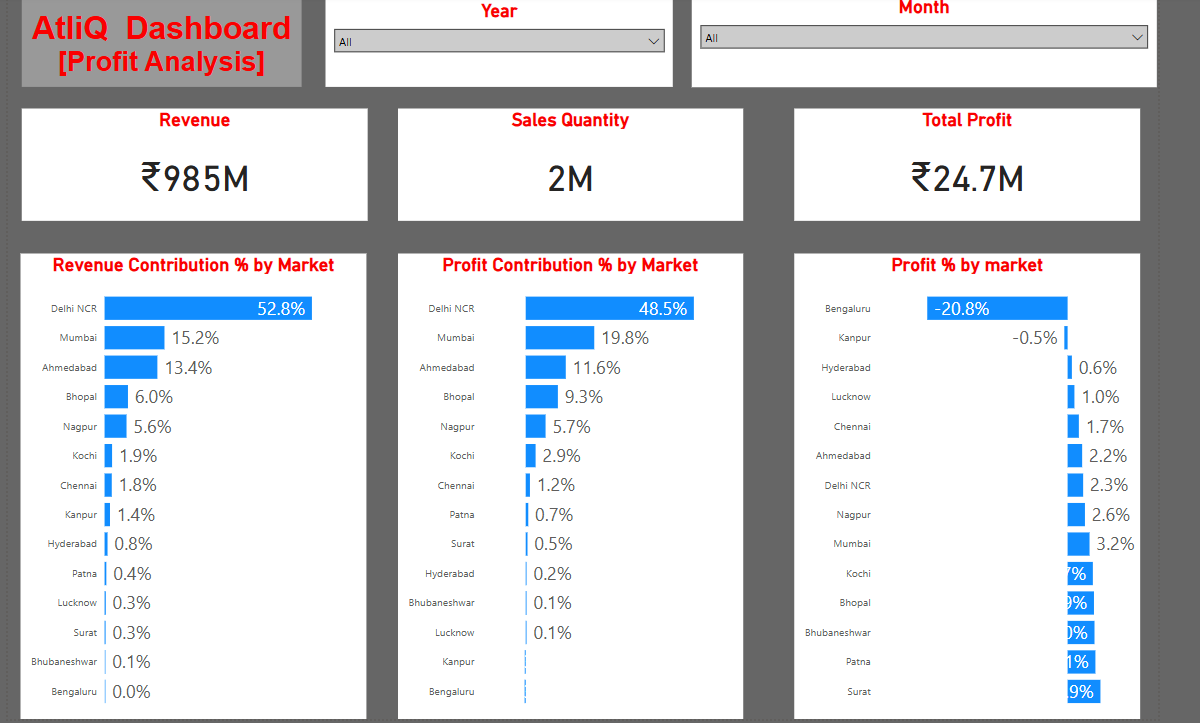

Layout of this report page (visuals, bound fields, positions):
{"tool":"powerbi","page":{"name":"Profit Analysis","canvas":[1350,850],"ordinal":1},"visuals":[{"type":"card","title":"Revenue","fields":{"Values":["BaseMeasures (2).Revenue"]},"box":[16.2,132.2,406.8,132.2],"z":0},{"type":"card","title":"Sales Quantity","fields":{"Values":["BaseMeasures (2).Sales Qty"]},"box":[458.2,132.2,405.3,132.2],"z":1000},{"type":"barChart","title":"Profit % by market","fields":{"Y":["BaseMeasures (2).Profit Margin %"],"Category":["sales markets.markets_name"]},"box":[923.7,302.5,406.8,547.8],"z":2000},{"type":"barChart","title":"Profit Contribution % by Market","fields":{"Y":["BaseMeasures (2).Profit Margin Contribution %"],"Category":["sales markets.markets_name"]},"box":[458.2,302.5,405.3,547.8],"z":3000},{"type":"slicer","title":"Year","fields":{"Values":["sales date.year"]},"box":[373,4.4,408.3,102.8],"z":4000},{"type":"slicer","title":"Month","fields":{"Values":["sales date.cy_date"]},"box":[803.3,0,546.3,107.2],"z":5000},{"type":"card","title":"Total Profit","fields":{"Values":["BaseMeasures (2).Total Profit Margin"]},"box":[923.7,132.2,406.8,132.2],"z":8000},{"type":"barChart","title":"Revenue Contribution % by Market","fields":{"Y":["BaseMeasures (2).Revenue Contribution %"],"Category":["sales markets.markets_name"]},"box":[14.7,302.5,406.8,547.8],"z":9000},{"type":"textbox","box":[16.2,4.4,329,102.8],"z":9001}]}

Visuals, with their boxes in screenshot pixels (x1, y1, x2, y2):
"Revenue" card: 26, 108, 367, 218
"Sales Quantity" card: 396, 108, 736, 218
"Profit % by market" barChart: 786, 250, 1127, 709
"Profit Contribution % by Market" barChart: 396, 250, 736, 709
"Year" slicer: 325, 1, 667, 87
"Month" slicer: 685, 0, 1143, 87
"Total Profit" card: 786, 108, 1127, 218
"Revenue Contribution % by Market" barChart: 25, 250, 366, 709
textbox: 26, 1, 302, 87
